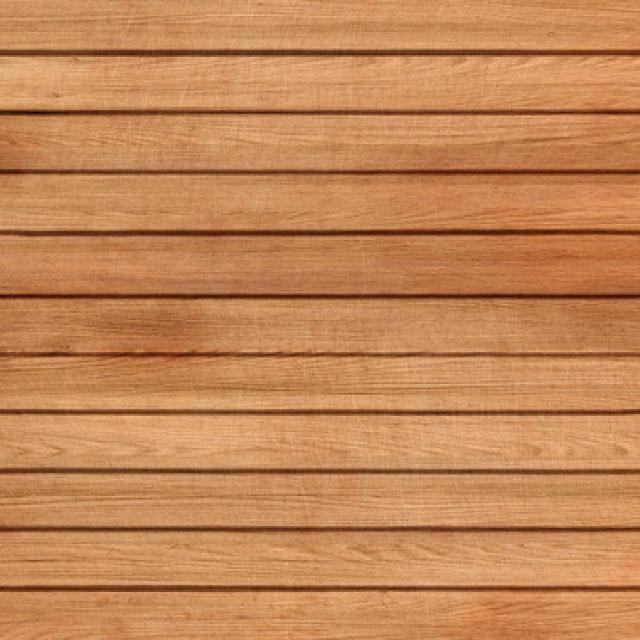perfect-wooden-plate: (0, 234, 640, 295), (0, 115, 640, 172), (0, 175, 640, 232), (0, 298, 640, 354), (0, 531, 640, 587), (0, 414, 639, 470), (0, 57, 640, 112), (0, 474, 639, 529), (0, 358, 640, 411), (0, 2, 640, 52), (0, 591, 640, 639)
